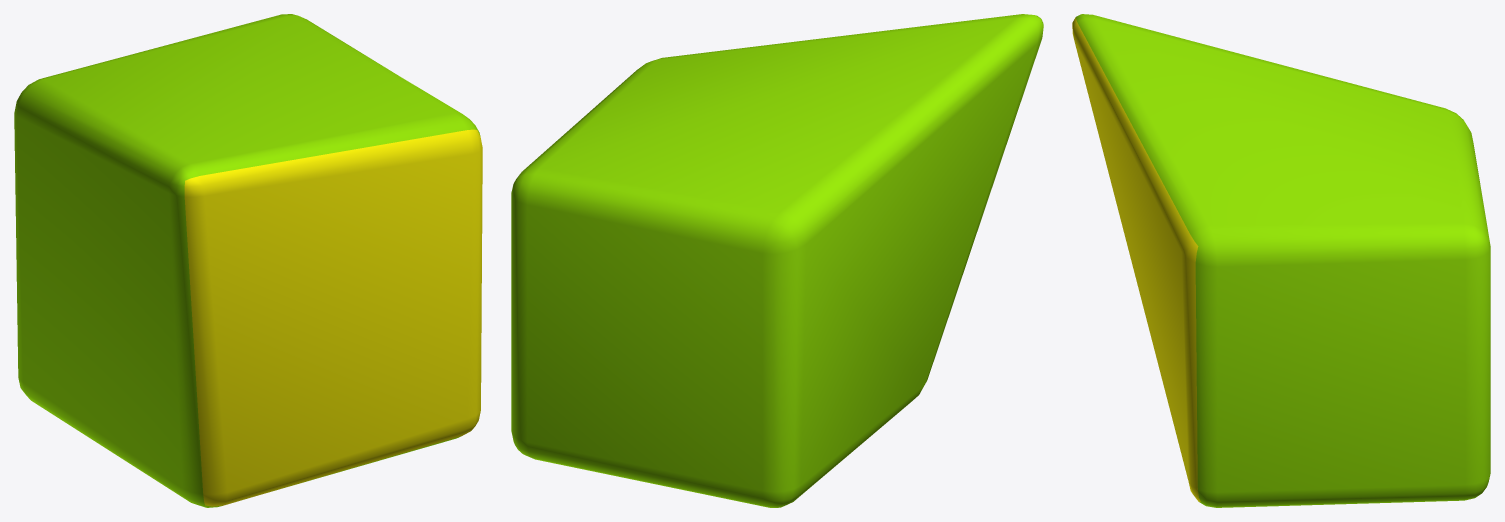
3 renders of one model, left to right at view 1: azimuth 30°, elevation 25°; view 2: azimuth 150°, elevation 25°; view 3: azimuth 270°, elevation 25°, orthographic. The views are drawn at different scales.
Visible parts, largest first — view 1: Cube; view 2: Cube; view 3: Cube.
Part boxes in pixels (x1=…): Cube: x1=14, y1=14, x2=482, y2=507; Cube: x1=511, y1=14, x2=1043, y2=507; Cube: x1=1072, y1=14, x2=1490, y2=507.
Size of the model in its own units: 2.49 by 2.54 by 2.76.
